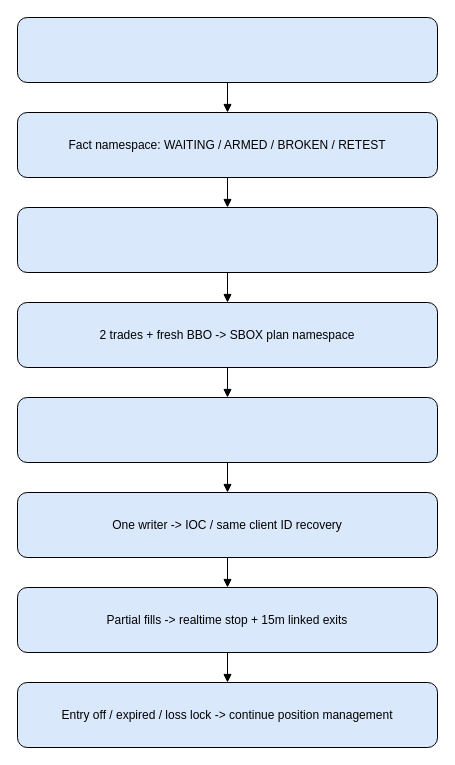
Some shapes in this 455 by 765 pixel diagram are drawn without their labels. Here are the shapes that lost their labels. From the top down, the centre of each, then its label:
the point at 227,49: Closed 1h direction + independent 15m structures
the point at 227,239: Freeze J1 / outer-edge BOX32 target; BBO crossing disqualifies target
the point at 227,429: Shared reentry / costs / risk / trial limits
